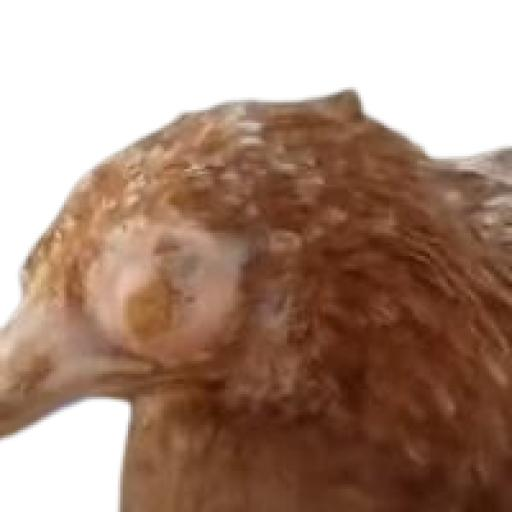disease: (82, 203, 273, 395)
